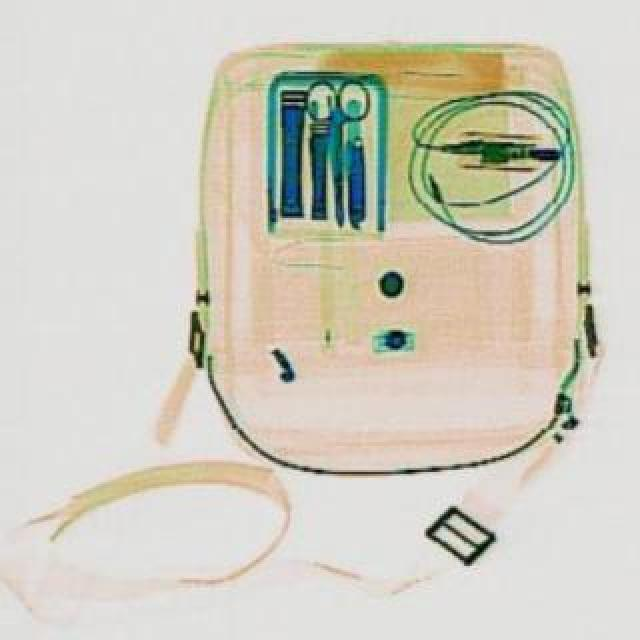pliers: (300, 78, 372, 228)
